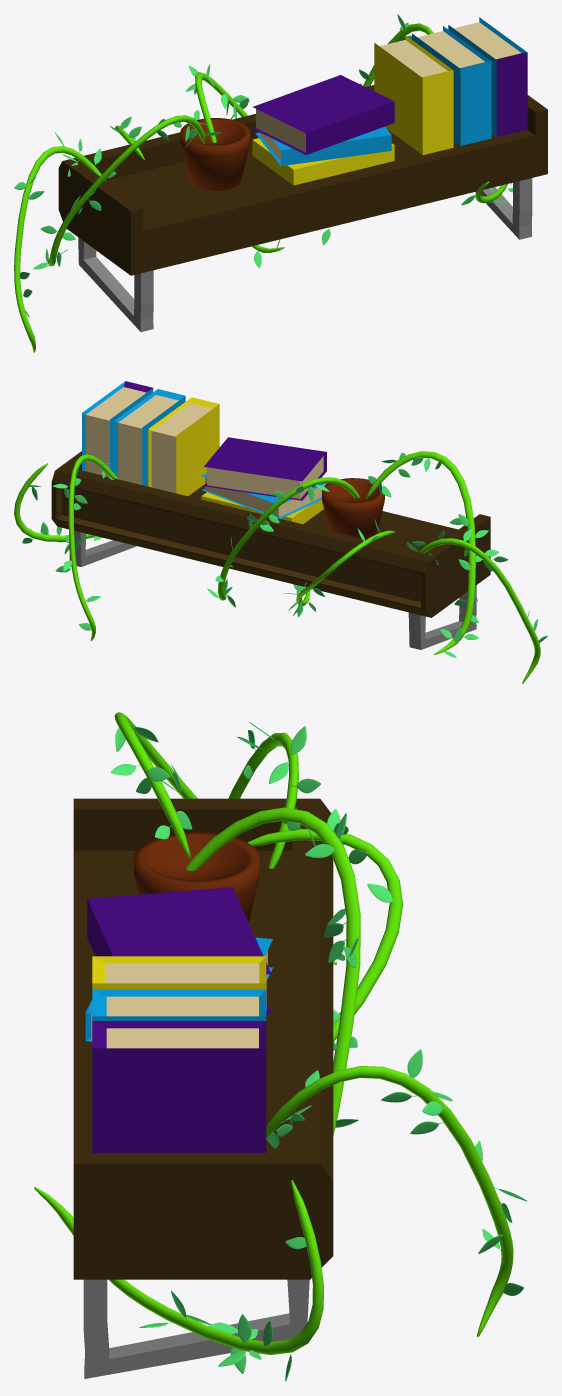
File: Deco_Prateleira.fbx
The picture shows the model from 3 angles, top to bottom: view 1: azimuth 30°, elevation 25°; view 2: azimuth 150°, elevation 25°; view 3: azimuth 270°, elevation 25°; orthographic projection. The views are drawn at different scales.
Parts seen in each view (by area): view 1: Shelf, Books, BézierCurve, Cylinder; view 2: Shelf, Books, BézierCurve, Cylinder; view 3: Shelf, Books, BézierCurve, Cylinder.
Part boxes in pixels (bbox=[...]): Shelf: bbox=[58, 85, 547, 331]; Books: bbox=[252, 17, 527, 185]; BézierCurve: bbox=[14, 23, 507, 352]; Cylinder: bbox=[180, 118, 250, 190]; Shelf: bbox=[51, 451, 490, 649]; Books: bbox=[82, 381, 327, 524]; BézierCurve: bbox=[14, 451, 540, 683]; Cylinder: bbox=[322, 478, 384, 539]; Shelf: bbox=[73, 798, 333, 1378]; Books: bbox=[85, 887, 272, 1152]; BézierCurve: bbox=[34, 712, 513, 1354]; Cylinder: bbox=[134, 832, 259, 922].
Bounding box in the file's own units: 209 × 91.16 × 79.61.
